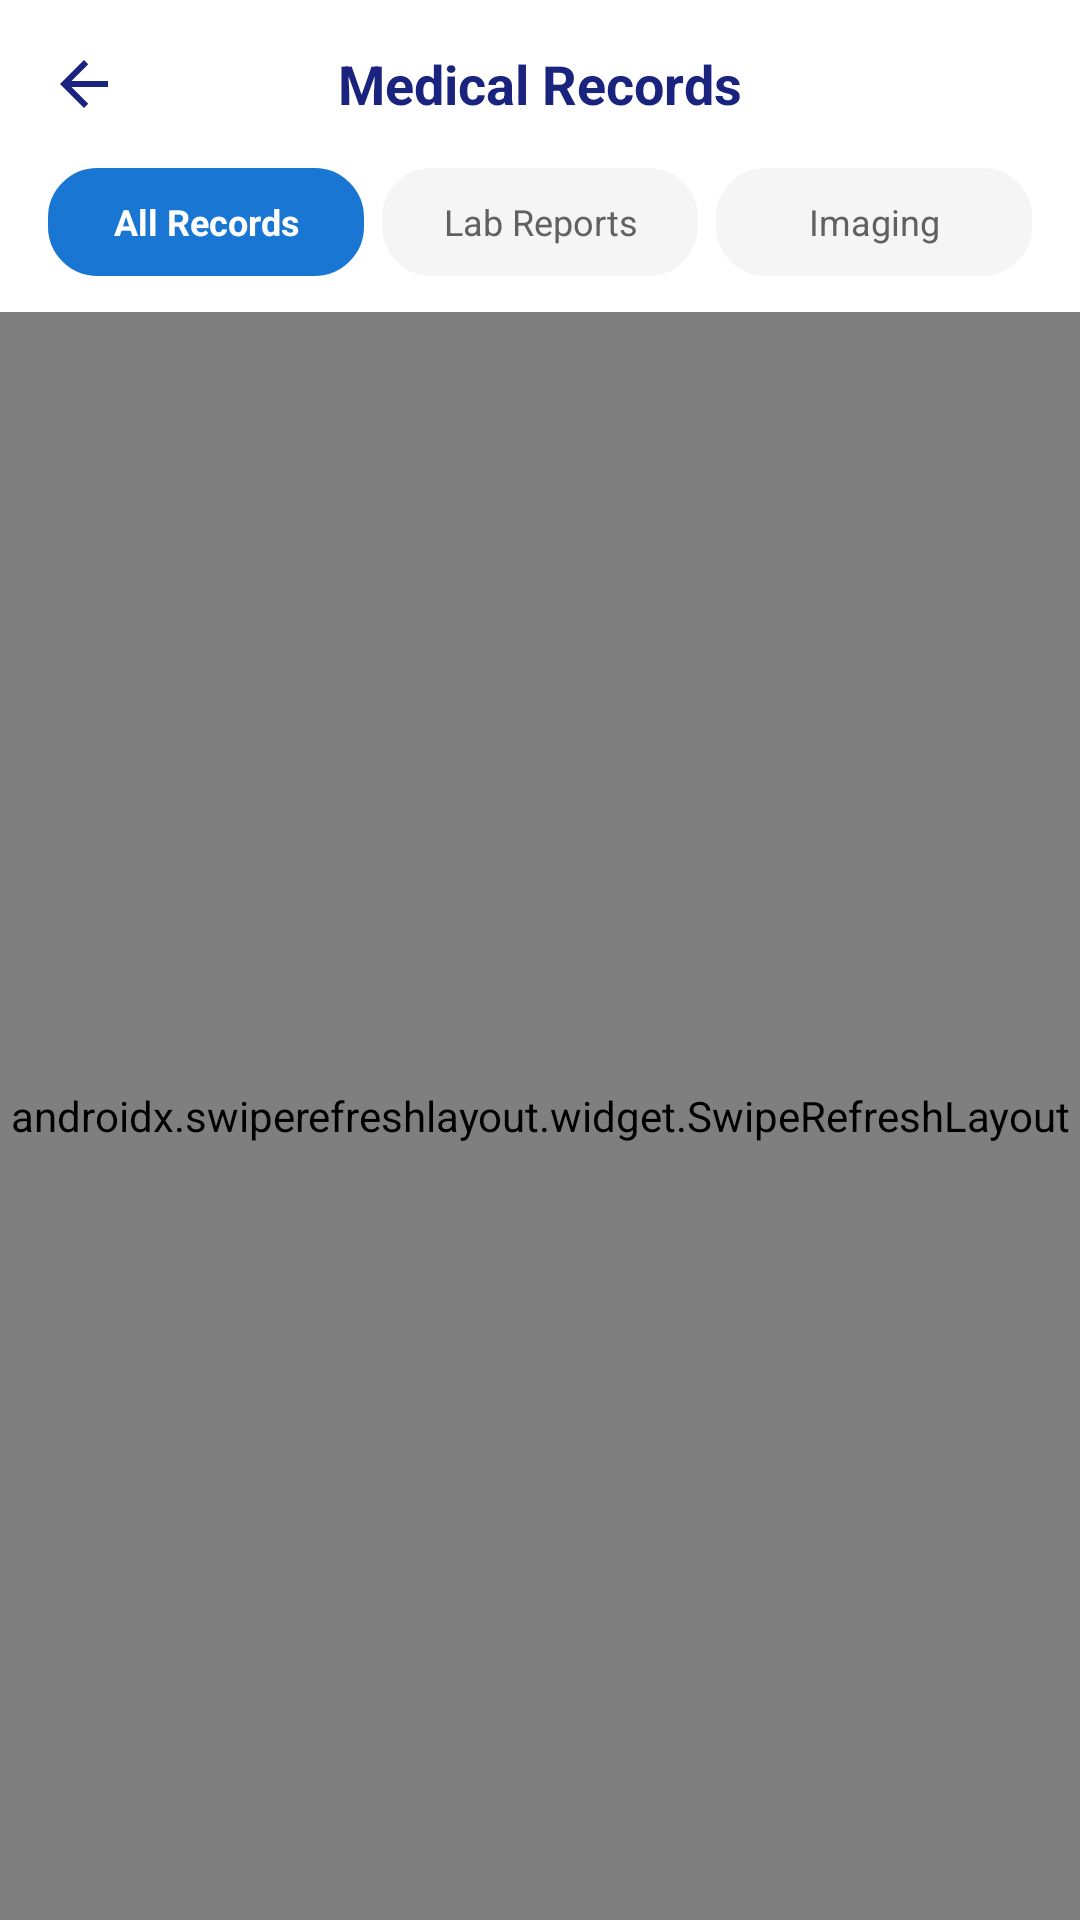

Screen size 1080px×1920px. Icon name, then its center in pixels as (x,y):
back arrow: (84,84)
